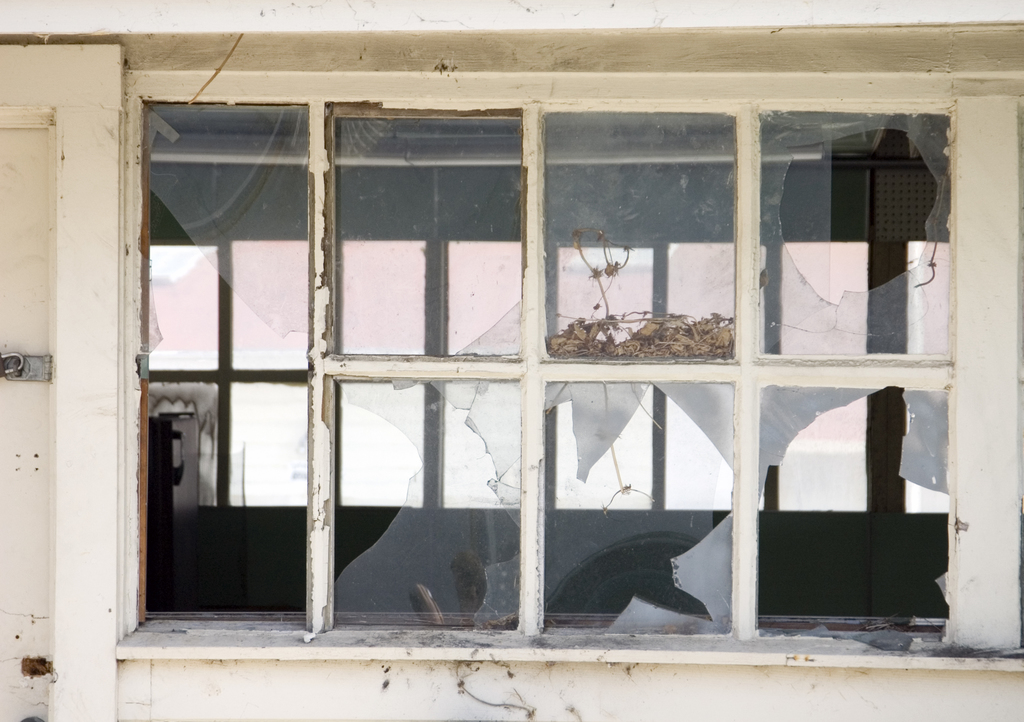Door: (0, 126, 46, 721)
